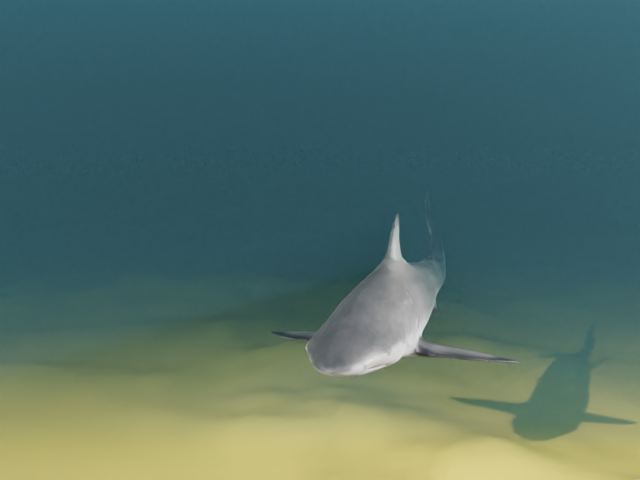Carribean Shark.001: (271, 191, 520, 376)
